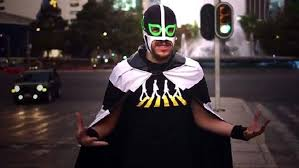mask: (133, 1, 182, 62)
